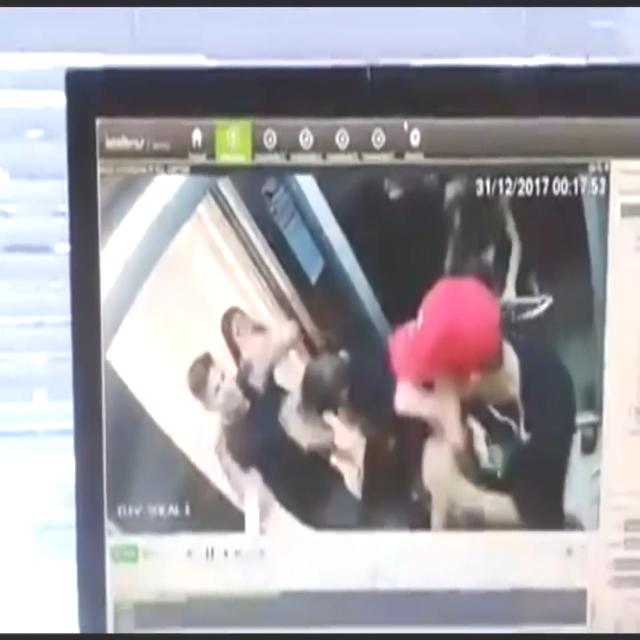fight: (188, 352, 362, 528)
